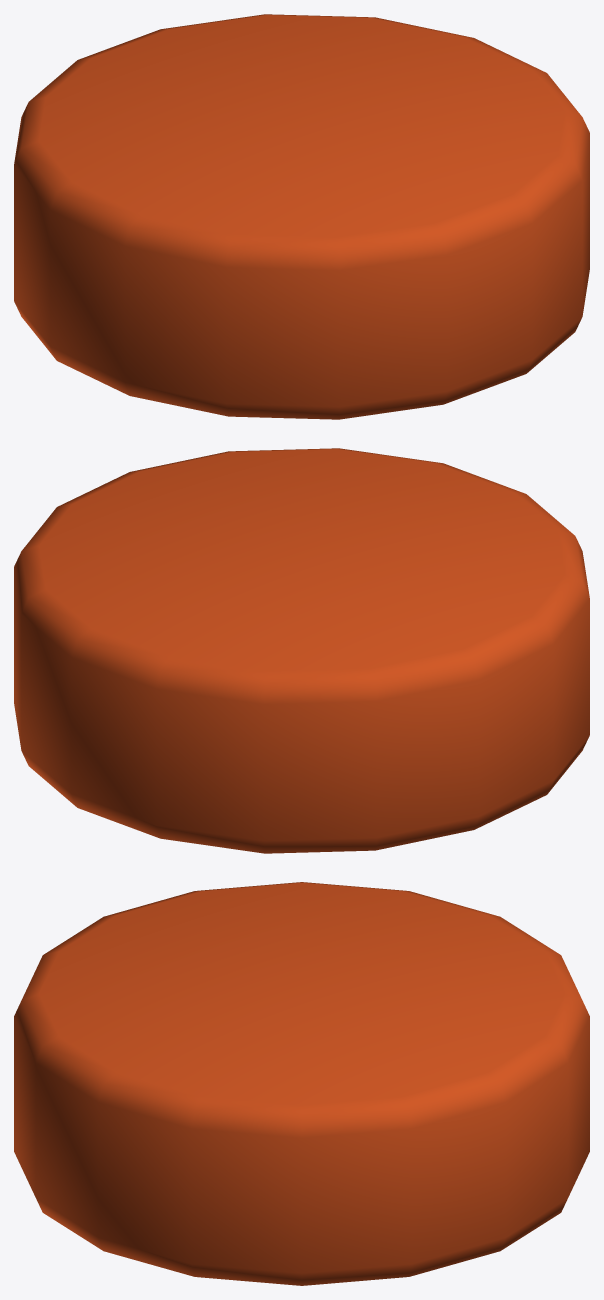
File: puck_1.fbx
3 renders of one model, top to bottom at view 1: azimuth 30°, elevation 25°; view 2: azimuth 150°, elevation 25°; view 3: azimuth 270°, elevation 25°, orthographic.
Parts seen in each view (by area): view 1: Puck; view 2: Puck; view 3: Puck.
Part boxes in pixels (x1,y1,x2,y2): Puck: [14, 14, 589, 419]; Puck: [14, 448, 589, 853]; Puck: [14, 882, 589, 1285].
Bounding box in the file's own units: 200 × 68.93 × 200.
